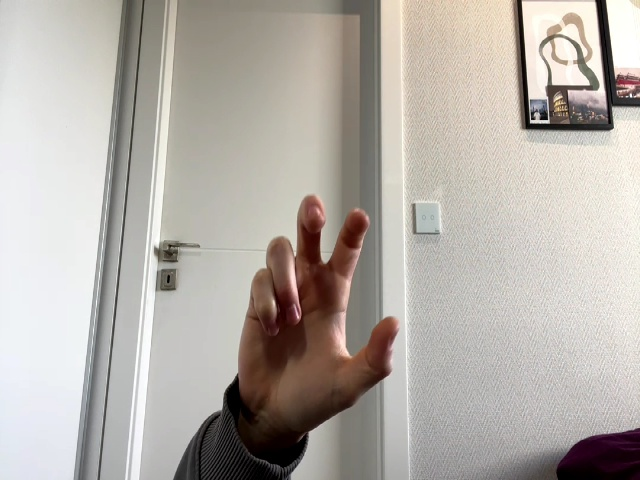CH: (238, 195, 400, 432)
